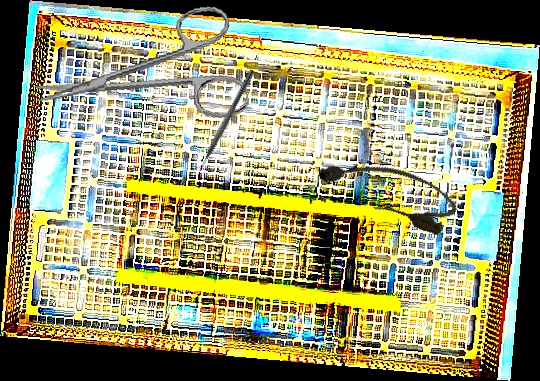Cannula: (313, 141, 463, 239)
Chopper: (190, 65, 256, 176)
Iris Scissors: (26, 1, 251, 147)
